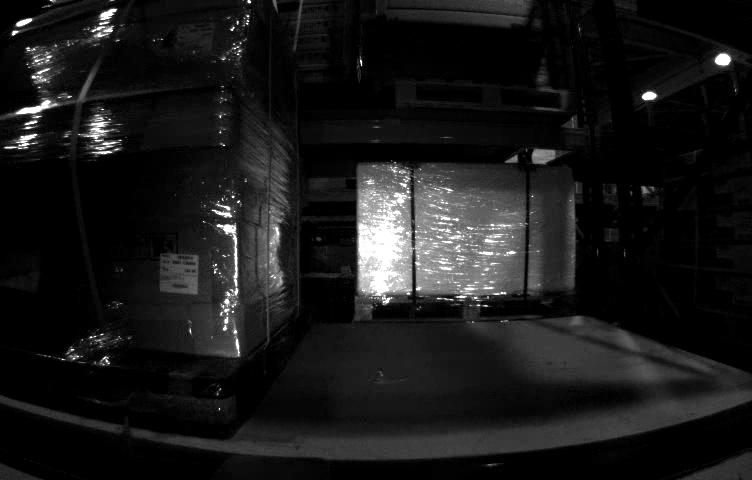True Barcode: (157, 249, 203, 297)
